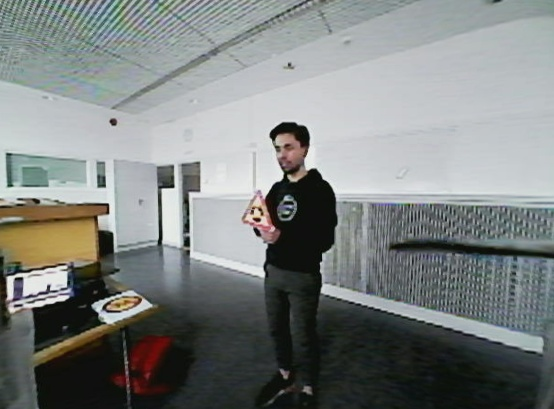roundabout_warning: (240, 189, 279, 233)
